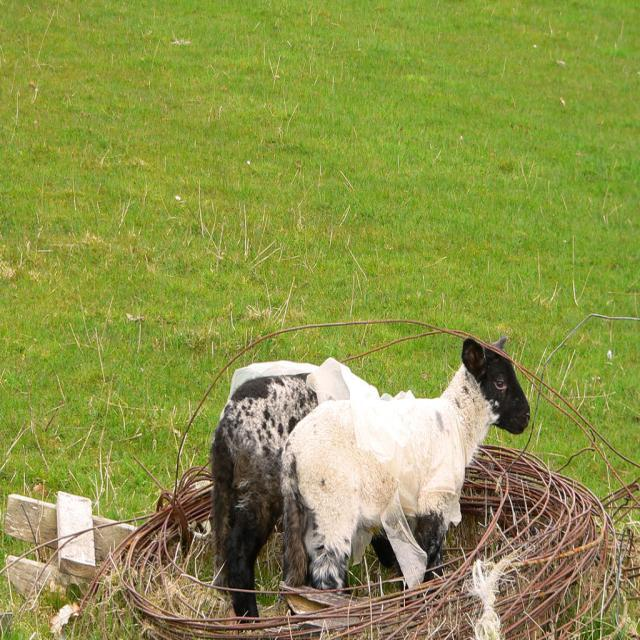Goat: (278, 333, 530, 597)
